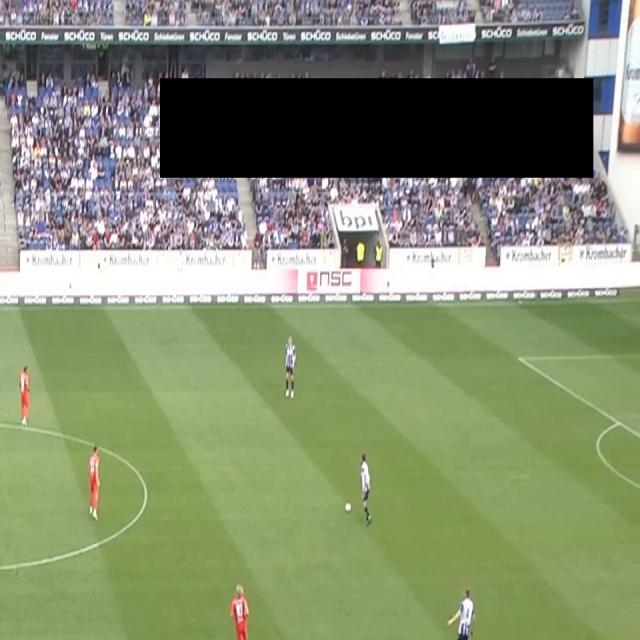ball: (344, 500, 352, 515)
